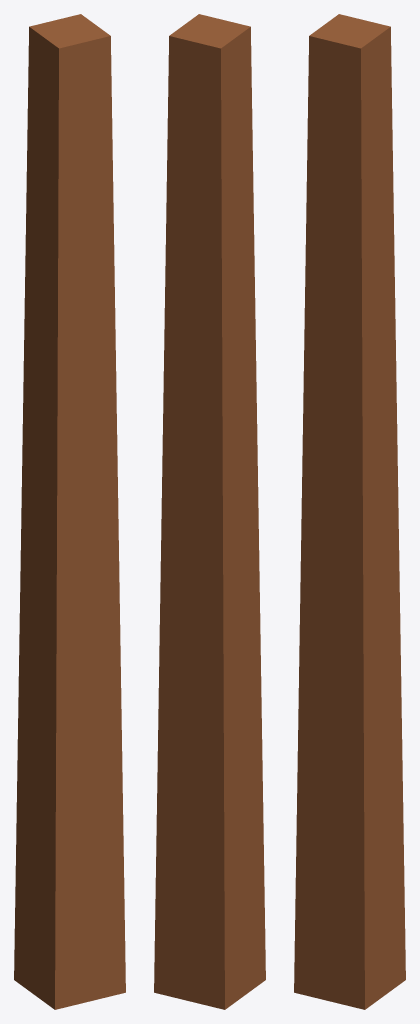
File: flag01.fbx
3 renders of one model, left to right at view 1: azimuth 30°, elevation 25°; view 2: azimuth 150°, elevation 25°; view 3: azimuth 330°, elevation 25°, orthographic.
Parts seen in each view (by area): view 1: flag01; view 2: flag01; view 3: flag01.
Boxes of the visible parts, box(x1,y1,x2,y2) form: flag01: box(14, 14, 125, 1009); flag01: box(154, 14, 265, 1009); flag01: box(294, 14, 405, 1009).
Size of the model in its own units: 27.56 by 354 by 27.56.
